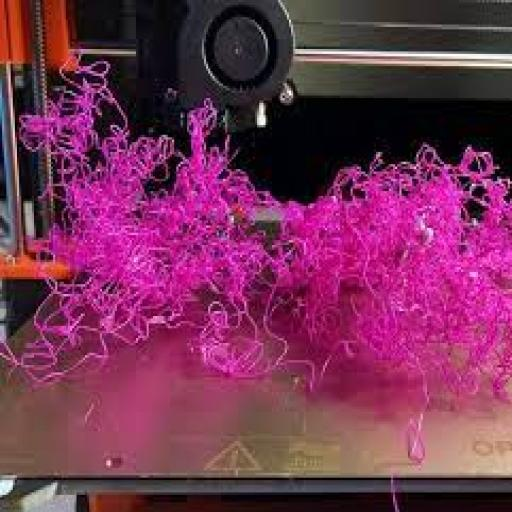spaghetti: (22, 50, 503, 420)
